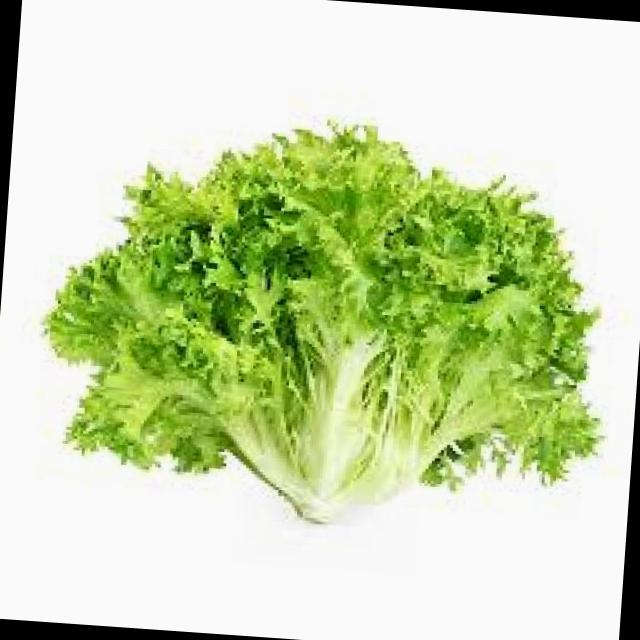Lettuce-Ready-to-Harvest: (48, 125, 595, 520)
